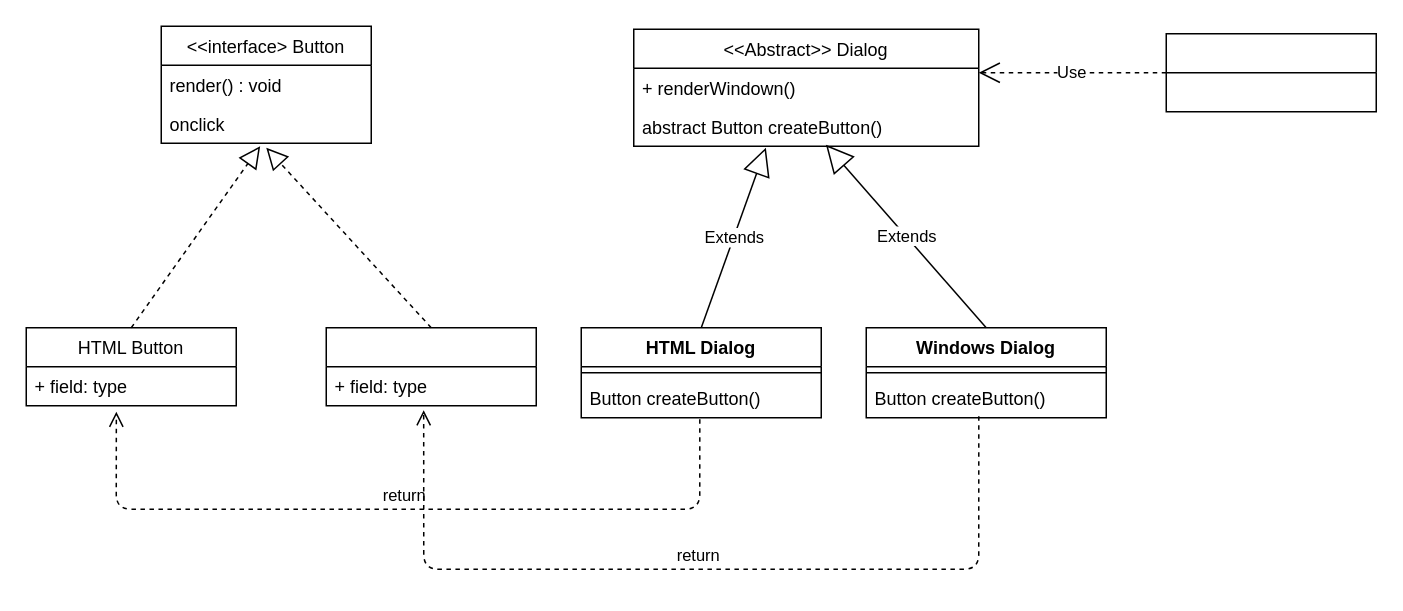
Image size: 1403x611. Some labels were removed from this diagram. Here are the shapes that lost their labels. From the top down, the box of each, then its label:
(1165, 32, 1376, 112): Demo Application
(325, 326, 536, 406): Windows Button
